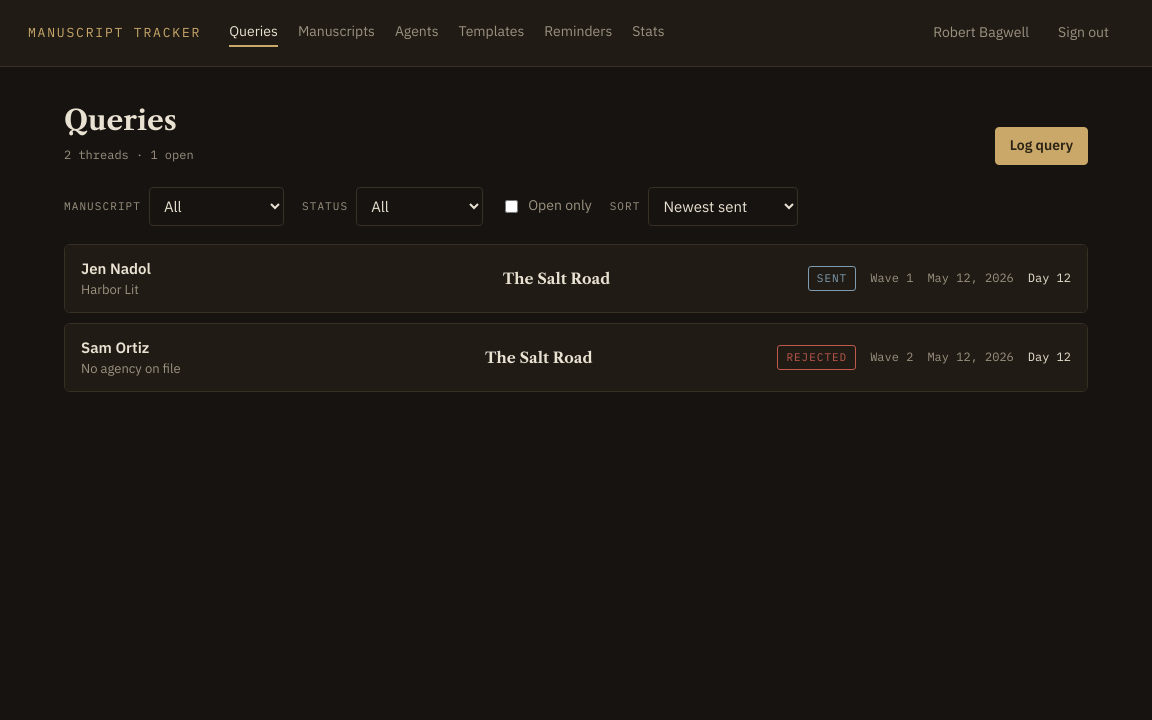
Scenario: QueriesPage › deletes a thread after confirmation
This screenshot has width=1152, height=720.
Step 1. Click the button "Jen Nadol" → (576, 278), box x1=65 y1=245 x2=1087 y2=312
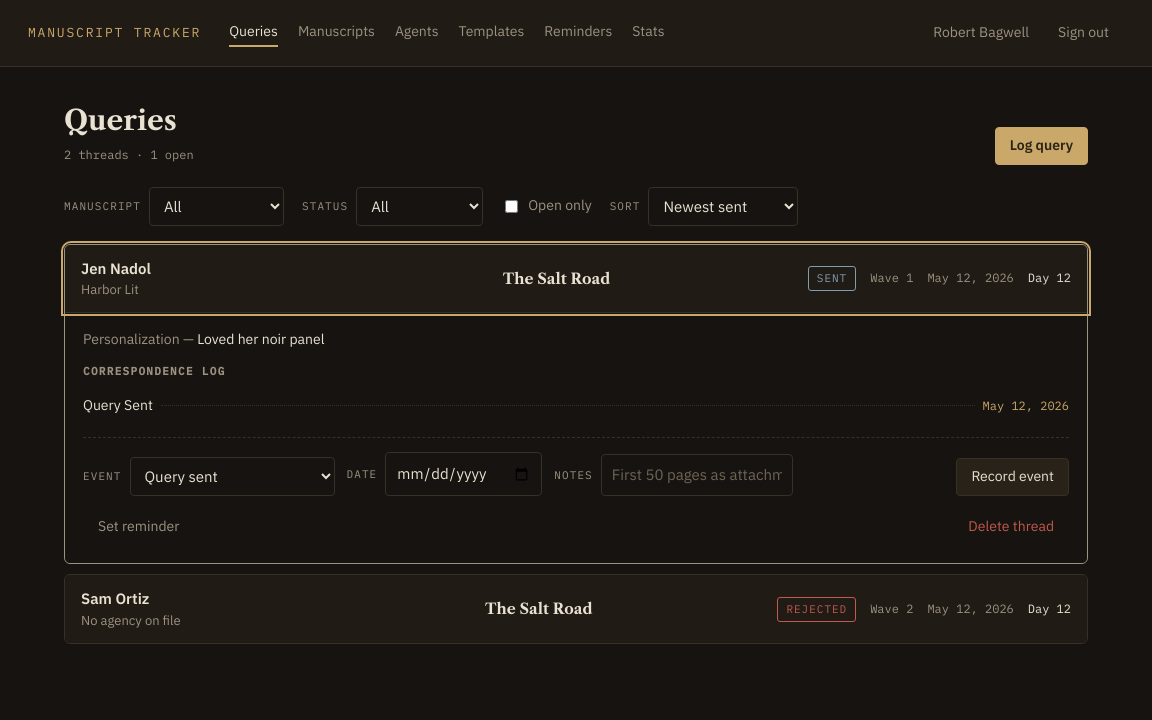
Expected: the text "Query Sent" is shown, x1=83 y1=395 x2=153 y2=416
Step 2. Click the button "Delete thread" → (1011, 527), box x1=953 y1=508 x2=1069 y2=545
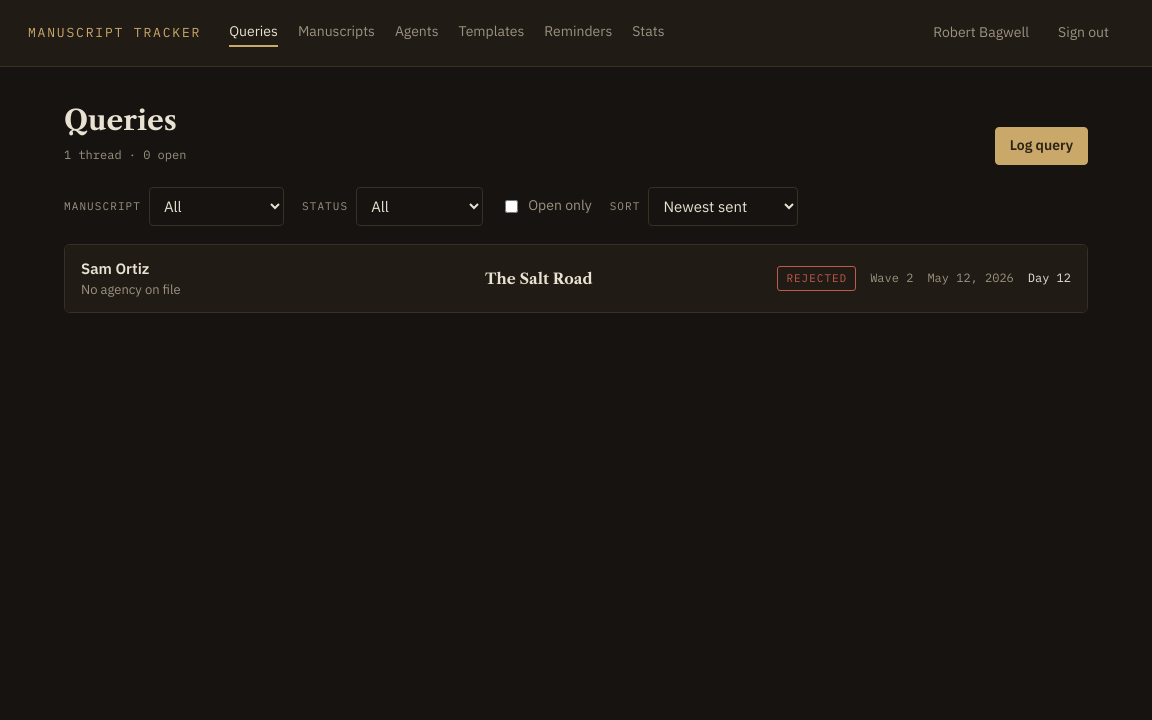
Expected: the button "Jen Nadol" is gone
